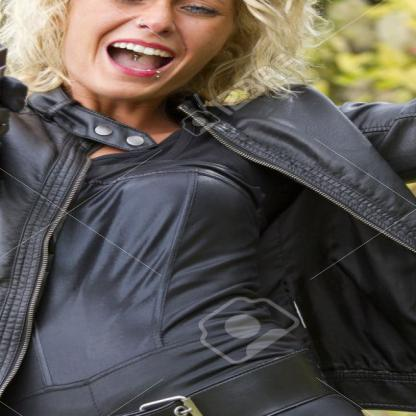gun: (0, 28, 46, 174)
